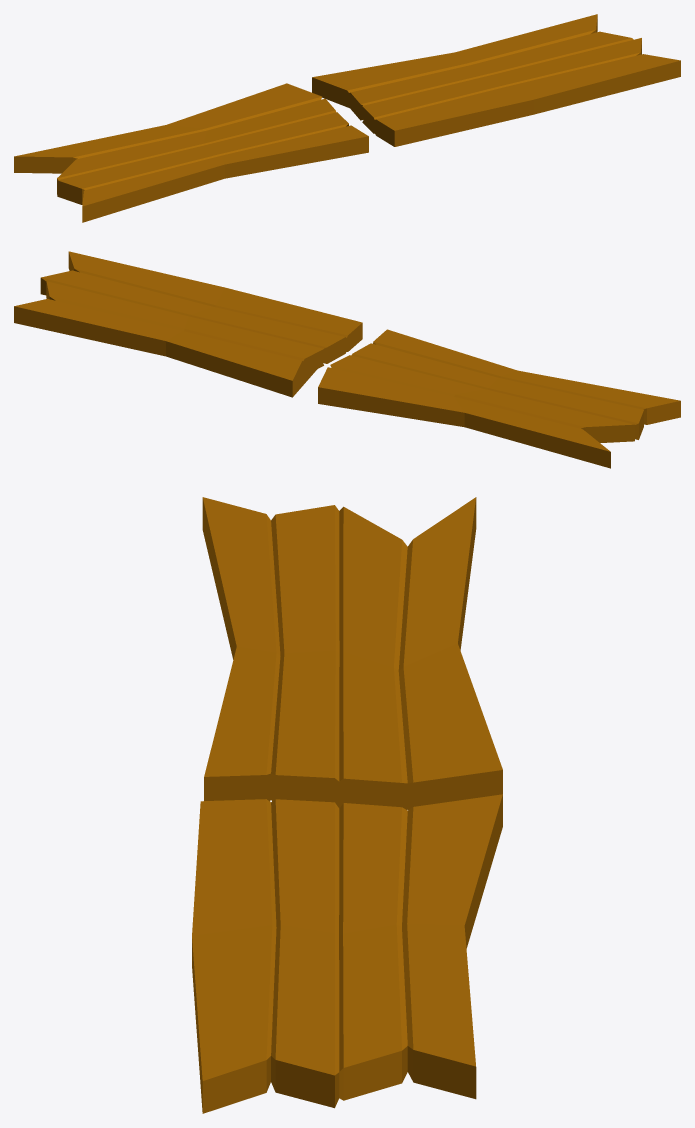
The model's file is BrokenWood_02.fbx.
The picture shows the model from 3 angles, top to bottom: view 1: azimuth 30°, elevation 25°; view 2: azimuth 150°, elevation 25°; view 3: azimuth 270°, elevation 25°; orthographic projection. The views are drawn at different scales.
Visible parts, largest first — view 1: BrokenWood_02; view 2: BrokenWood_02; view 3: BrokenWood_02.
Boxes of the visible parts, left/top/right/bottom form: BrokenWood_02: left=14, top=14, right=680, bottom=222; BrokenWood_02: left=14, top=251, right=680, bottom=468; BrokenWood_02: left=192, top=497, right=502, bottom=1113.
Bounding box in the file's own units: 51.21 × 1.34 × 11.52.
